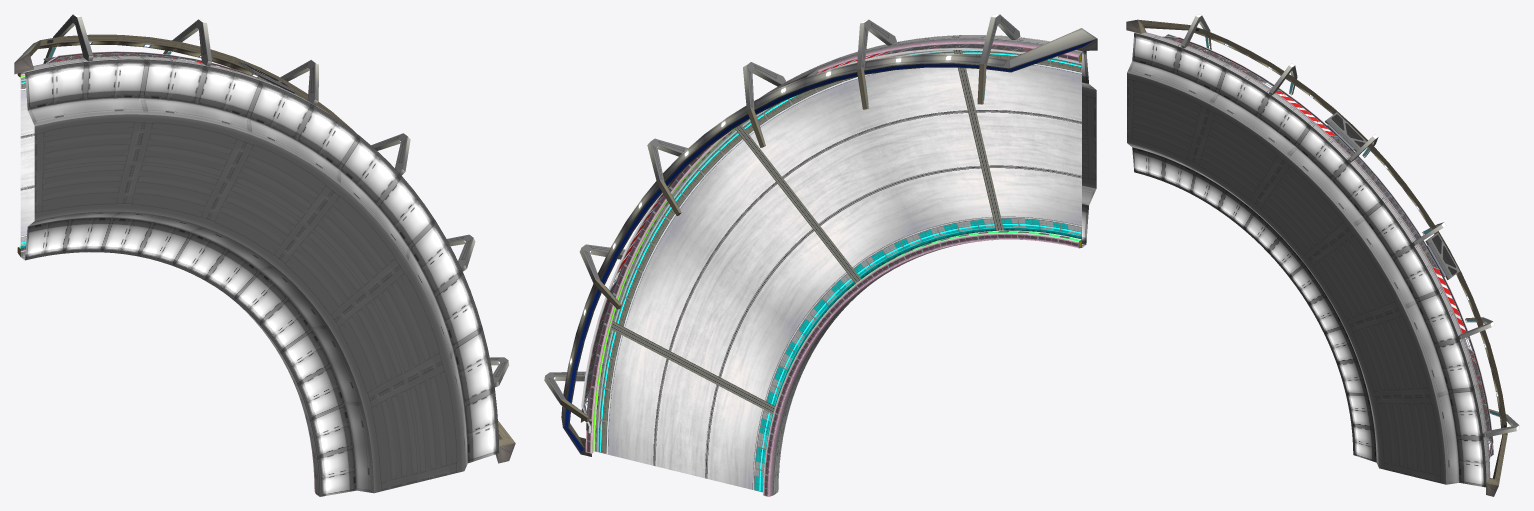
Rendered from T28 - Magnetic.fbx.
3 renders of one model, left to right at view 1: azimuth 30°, elevation 25°; view 2: azimuth 150°, elevation 25°; view 3: azimuth 330°, elevation 25°, orthographic. The views are drawn at different scales.
Parts seen in each view (by area): view 1: standard_bridge6, mag_cage8, drift_road1, standard_arrow_right; view 2: drift_road1, mag_cage8, wall_drift, magnetic_road_lines, standard_bridge6, standard_arrow_right; view 3: standard_bridge6, mag_cage8, standard_arrow_right, wall_drift, prop_billboard_right, prop_billboard_right_1.
Boxes of the visible parts, <box> form: standard_bridge6: <box>20,56,499,496</box>; mag_cage8: <box>14,14,515,463</box>; drift_road1: <box>20,77,34,248</box>; standard_arrow_right: <box>43,51,270,83</box>; drift_road1: <box>595,50,1081,492</box>; mag_cage8: <box>544,14,1097,456</box>; wall_drift: <box>585,38,1081,496</box>; magnetic_road_lines: <box>623,67,1081,478</box>; standard_bridge6: <box>760,35,1096,494</box>; standard_arrow_right: <box>581,44,1058,433</box>; standard_bridge6: <box>1127,32,1489,487</box>; mag_cage8: <box>1126,14,1519,496</box>; standard_arrow_right: <box>1162,34,1493,463</box>; wall_drift: <box>1146,32,1490,477</box>; prop_billboard_right: <box>1425,232,1459,279</box>; prop_billboard_right_1: <box>1325,112,1366,151</box>.
Bounding box in the file's own units: 12740 × 12742 × 2206.
